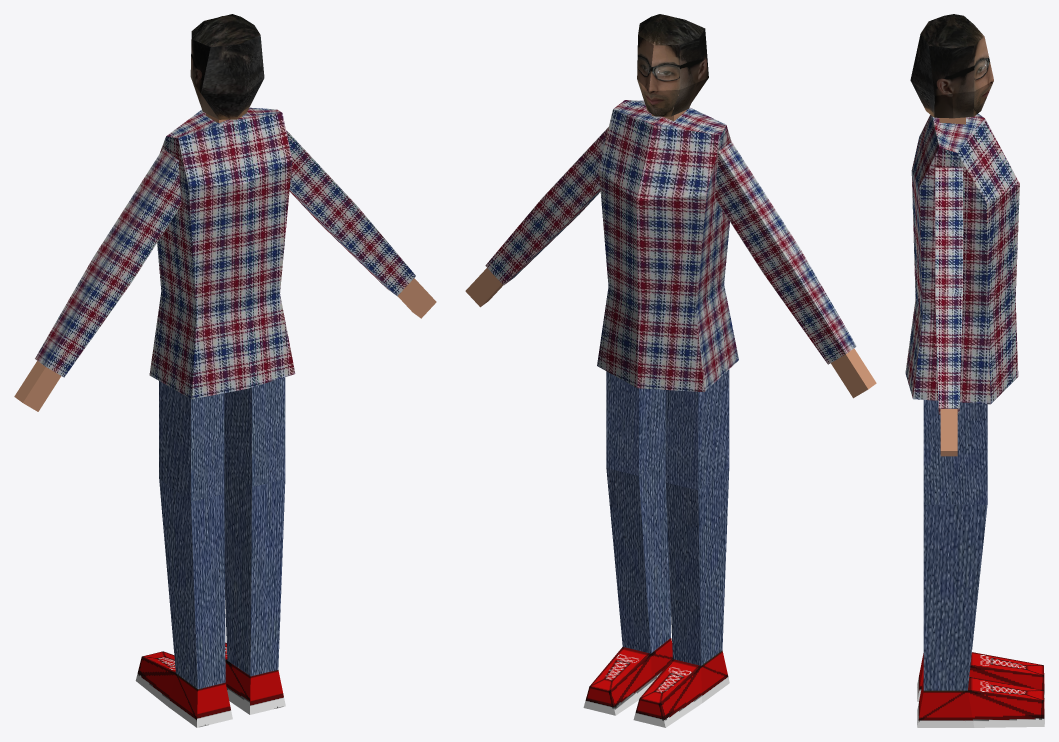
File: Santiago.fbx
3 renders of one model, left to right at view 1: azimuth 30°, elevation 25°; view 2: azimuth 150°, elevation 25°; view 3: azimuth 270°, elevation 25°, orthographic. The views are drawn at different scales.
Parts seen in each view (by area): view 1: Santi, Espinilla R, Espinilla L, Muslo L, Cabeza, Muslo R, Brazo delantero L, Antebrazo L, Pie L, Brazo delantero R, Antebrazo R, Pie R (+2 smaller); view 2: Santi, Espinilla L, Espinilla R, Muslo L, Cabeza, Brazo delantero L, Muslo R, Antebrazo L, Pie L, Pie R, Antebrazo R, Brazo delantero R (+2 smaller); view 3: Santi, Espinilla R, Cabeza, Muslo R, Pie R, Brazo delantero R, Antebrazo R, Pie L, Mano R.
Part boxes in pixels (left/top/right/bottom): Santi: left=149, top=107, right=295, bottom=399; Espinilla R: left=224, top=467, right=285, bottom=676; Espinilla L: left=159, top=479, right=225, bottom=689; Muslo L: left=159, top=381, right=224, bottom=501; Cabeza: left=190, top=14, right=264, bottom=119; Muslo R: left=224, top=377, right=285, bottom=486; Brazo delantero L: left=93, top=149, right=181, bottom=282; Antebrazo L: left=35, top=258, right=131, bottom=377; Pie L: left=135, top=651, right=232, bottom=727; Brazo delantero R: left=286, top=130, right=357, bottom=232; Antebrazo R: left=320, top=207, right=415, bottom=296; Pie R: left=225, top=642, right=285, bottom=714; Santi: left=597, top=100, right=738, bottom=392; Espinilla L: left=666, top=468, right=729, bottom=665; Espinilla R: left=606, top=456, right=670, bottom=653; Muslo L: left=665, top=369, right=729, bottom=490; Cabeza: left=637, top=14, right=708, bottom=116; Brazo delantero L: left=715, top=142, right=799, bottom=271; Muslo R: left=606, top=371, right=665, bottom=475; Antebrazo L: left=762, top=248, right=856, bottom=364; Pie L: left=633, top=650, right=729, bottom=727; Pie R: left=583, top=638, right=672, bottom=715; Antebrazo R: left=485, top=198, right=579, bottom=285; Brazo delantero R: left=542, top=127, right=608, bottom=223; Santi: left=905, top=113, right=1019, bottom=404; Espinilla R: left=923, top=504, right=987, bottom=690; Cabeza: left=910, top=14, right=993, bottom=118; Muslo R: left=923, top=400, right=987, bottom=504; Pie R: left=917, top=677, right=1044, bottom=727; Brazo delantero R: left=935, top=167, right=962, bottom=293; Antebrazo R: left=935, top=293, right=962, bottom=414; Pie L: left=917, top=652, right=1044, bottom=701; Mano R: left=940, top=409, right=957, bottom=456.
Size of the model in its own units: 137 by 217 by 39.78.
8 materials, 8 textured.
